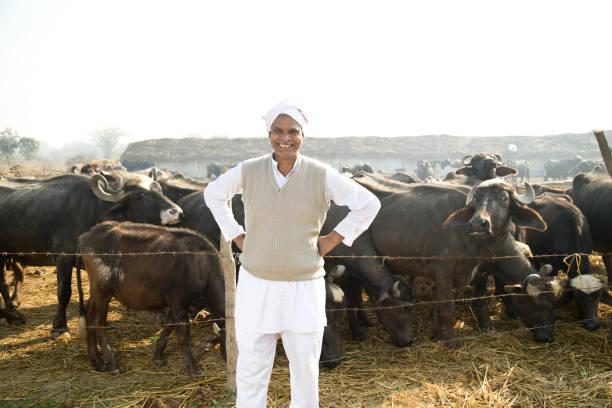Human: (208, 97, 371, 408)
